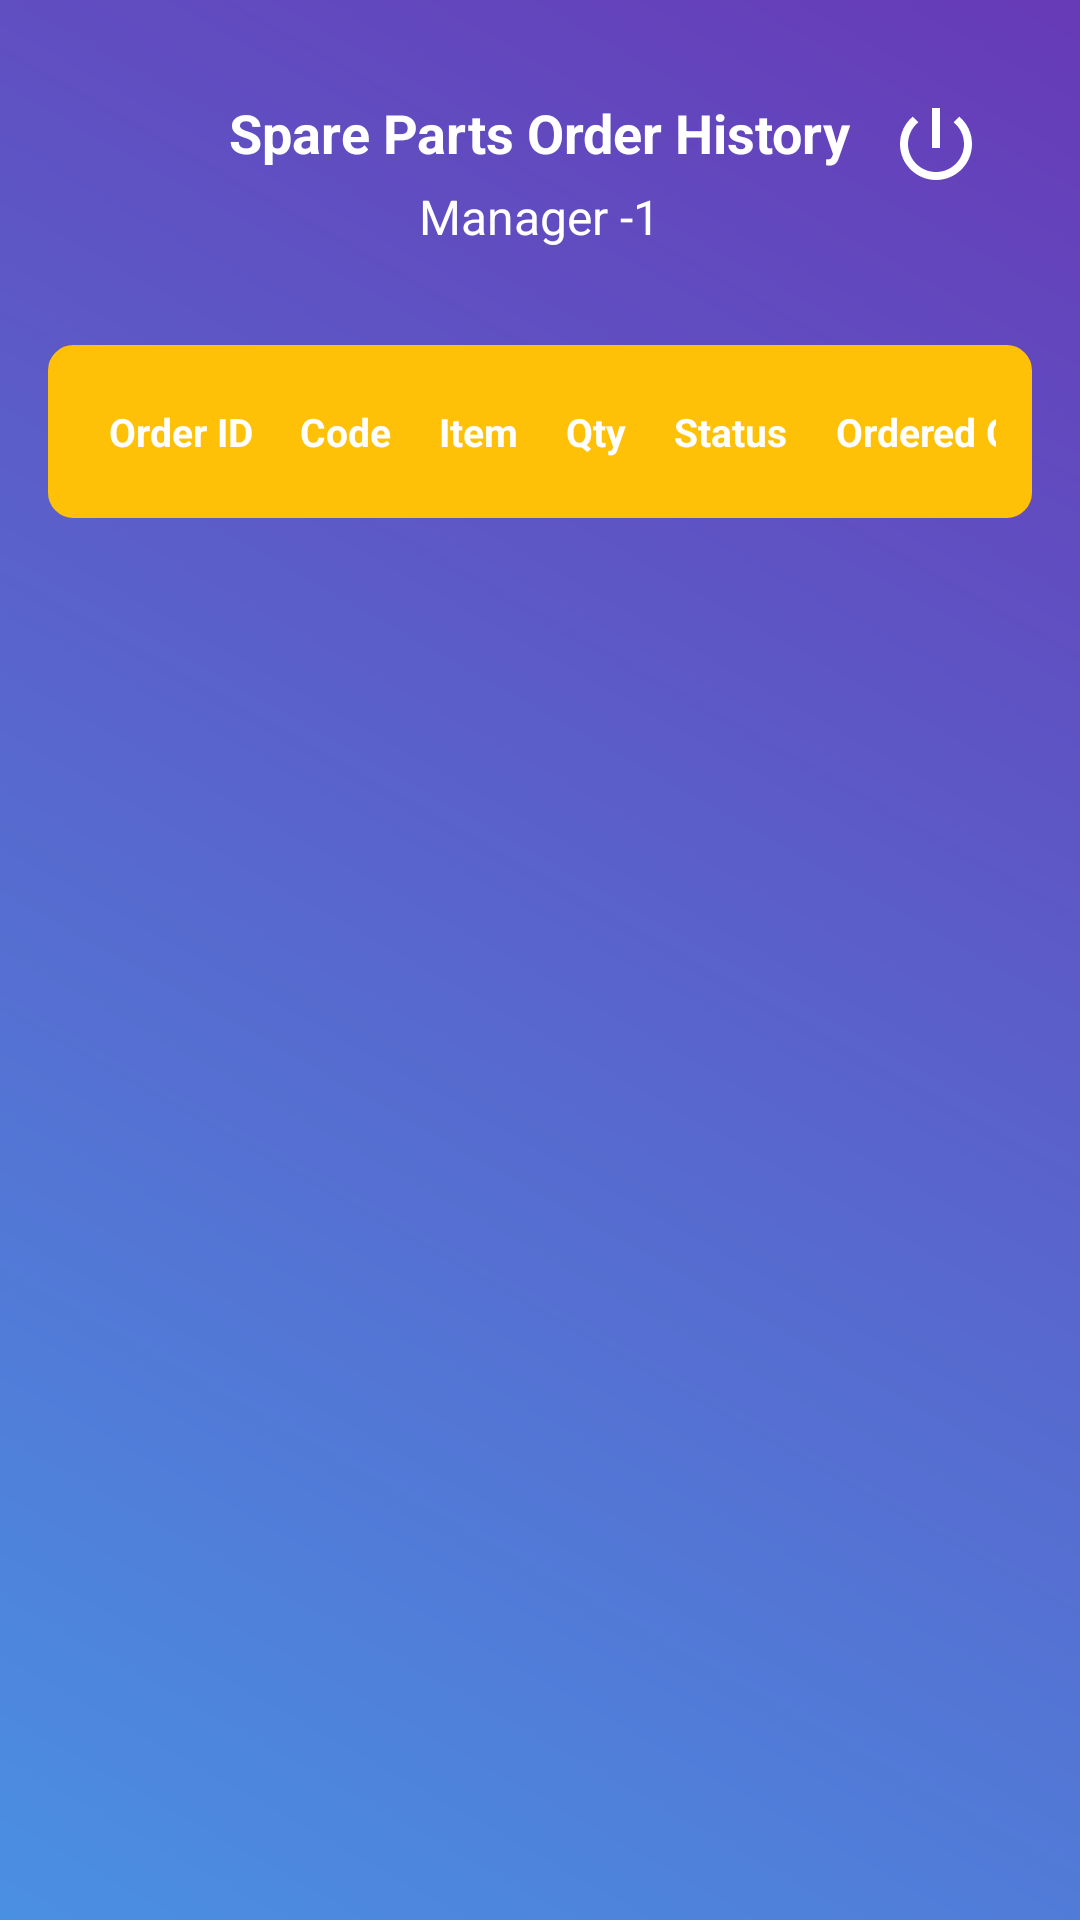

Icon click points for this 1080x1920 phone screenshot, format point (x, y):
power: point (936, 144)
